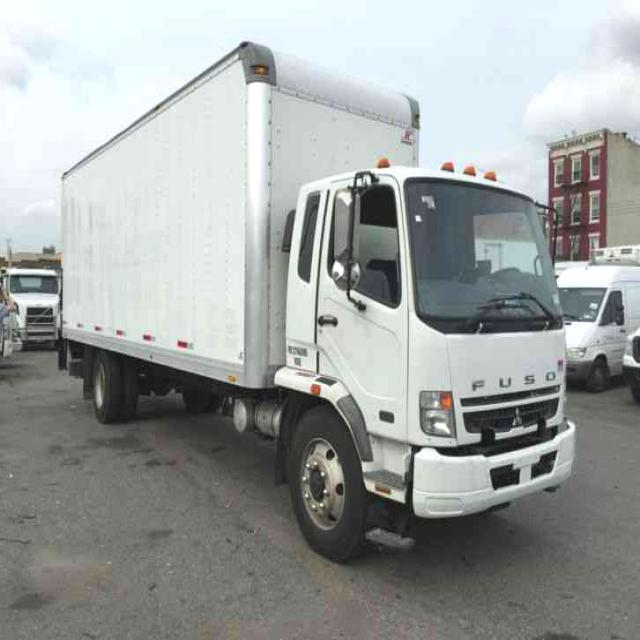truck: (62, 42, 576, 561)
